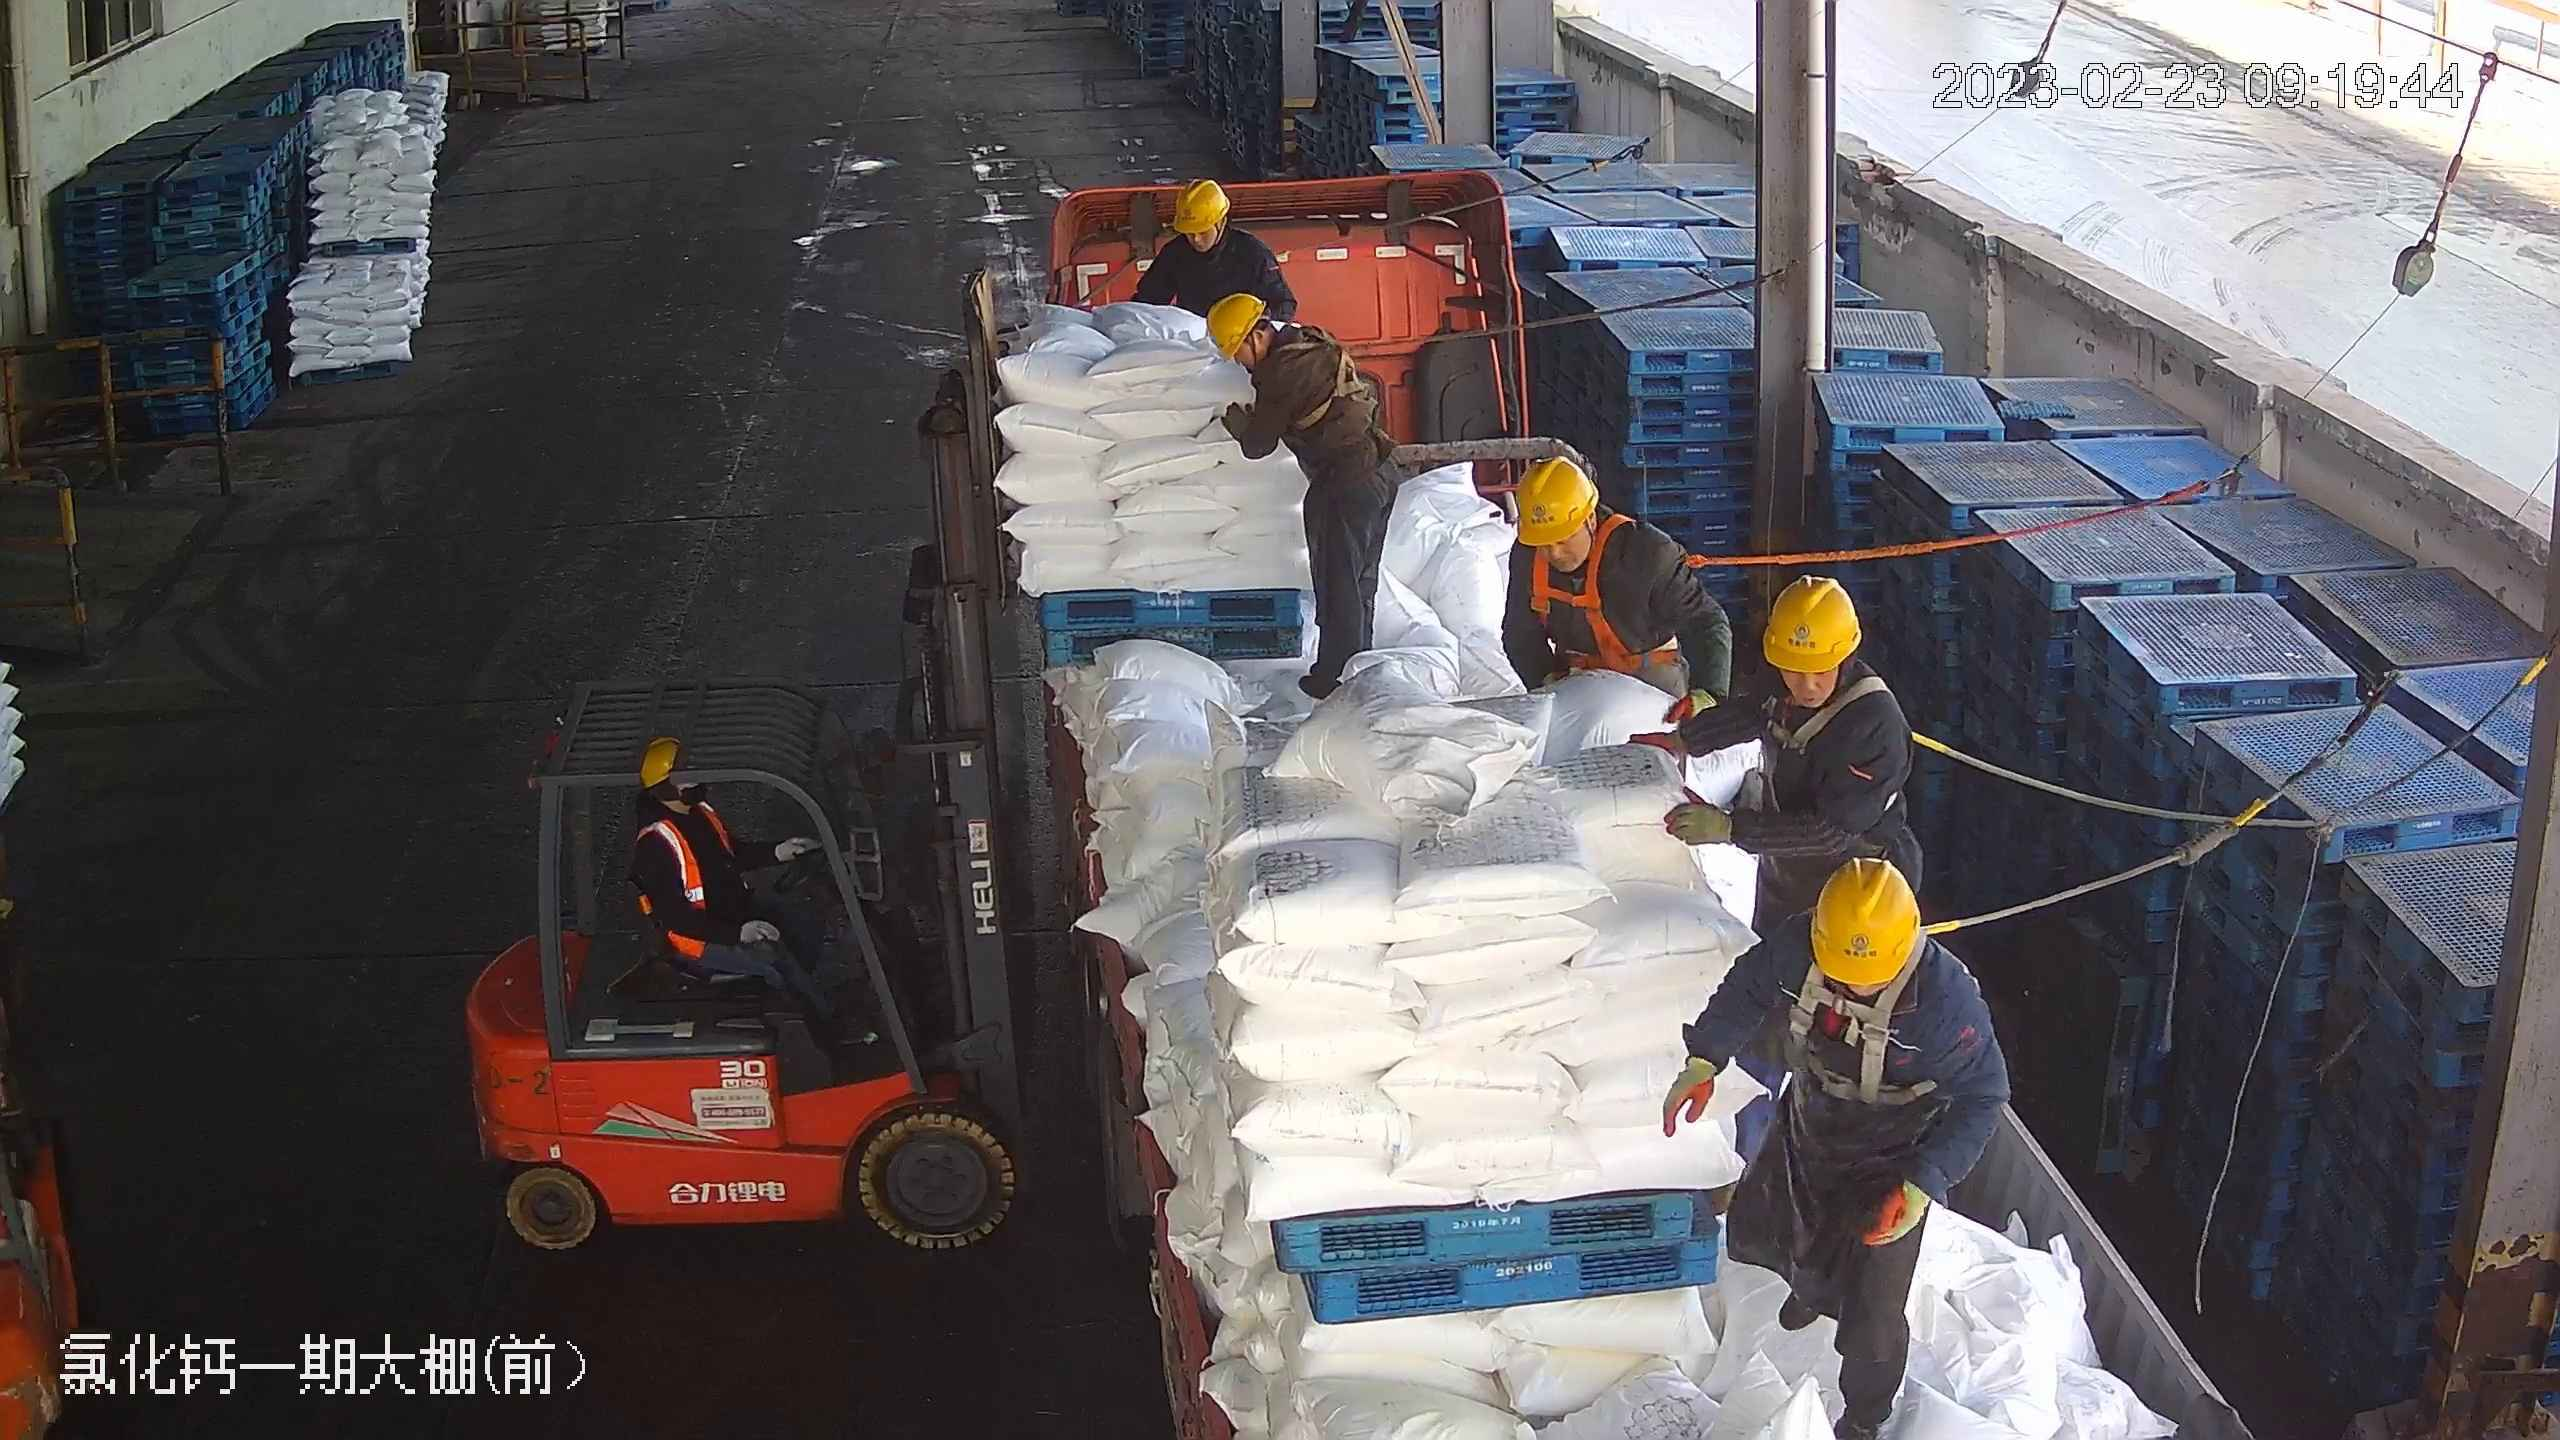belt: (1797, 922, 1963, 1091), (1537, 519, 1671, 683), (1758, 670, 1930, 773), (1269, 321, 1384, 429)
head: (1757, 853, 1978, 1053), (1738, 573, 1913, 763), (1506, 457, 1675, 604), (1207, 292, 1341, 409), (634, 734, 728, 869), (1165, 178, 1267, 272)
helmet: (1810, 852, 1921, 985), (1760, 573, 1862, 671), (1513, 454, 1596, 546), (1205, 291, 1267, 361), (1174, 179, 1228, 230), (639, 734, 687, 788)
people: (1669, 854, 1998, 1436), (1205, 290, 1397, 704), (630, 731, 875, 1053)
truck: (1020, 170, 2239, 1427)
